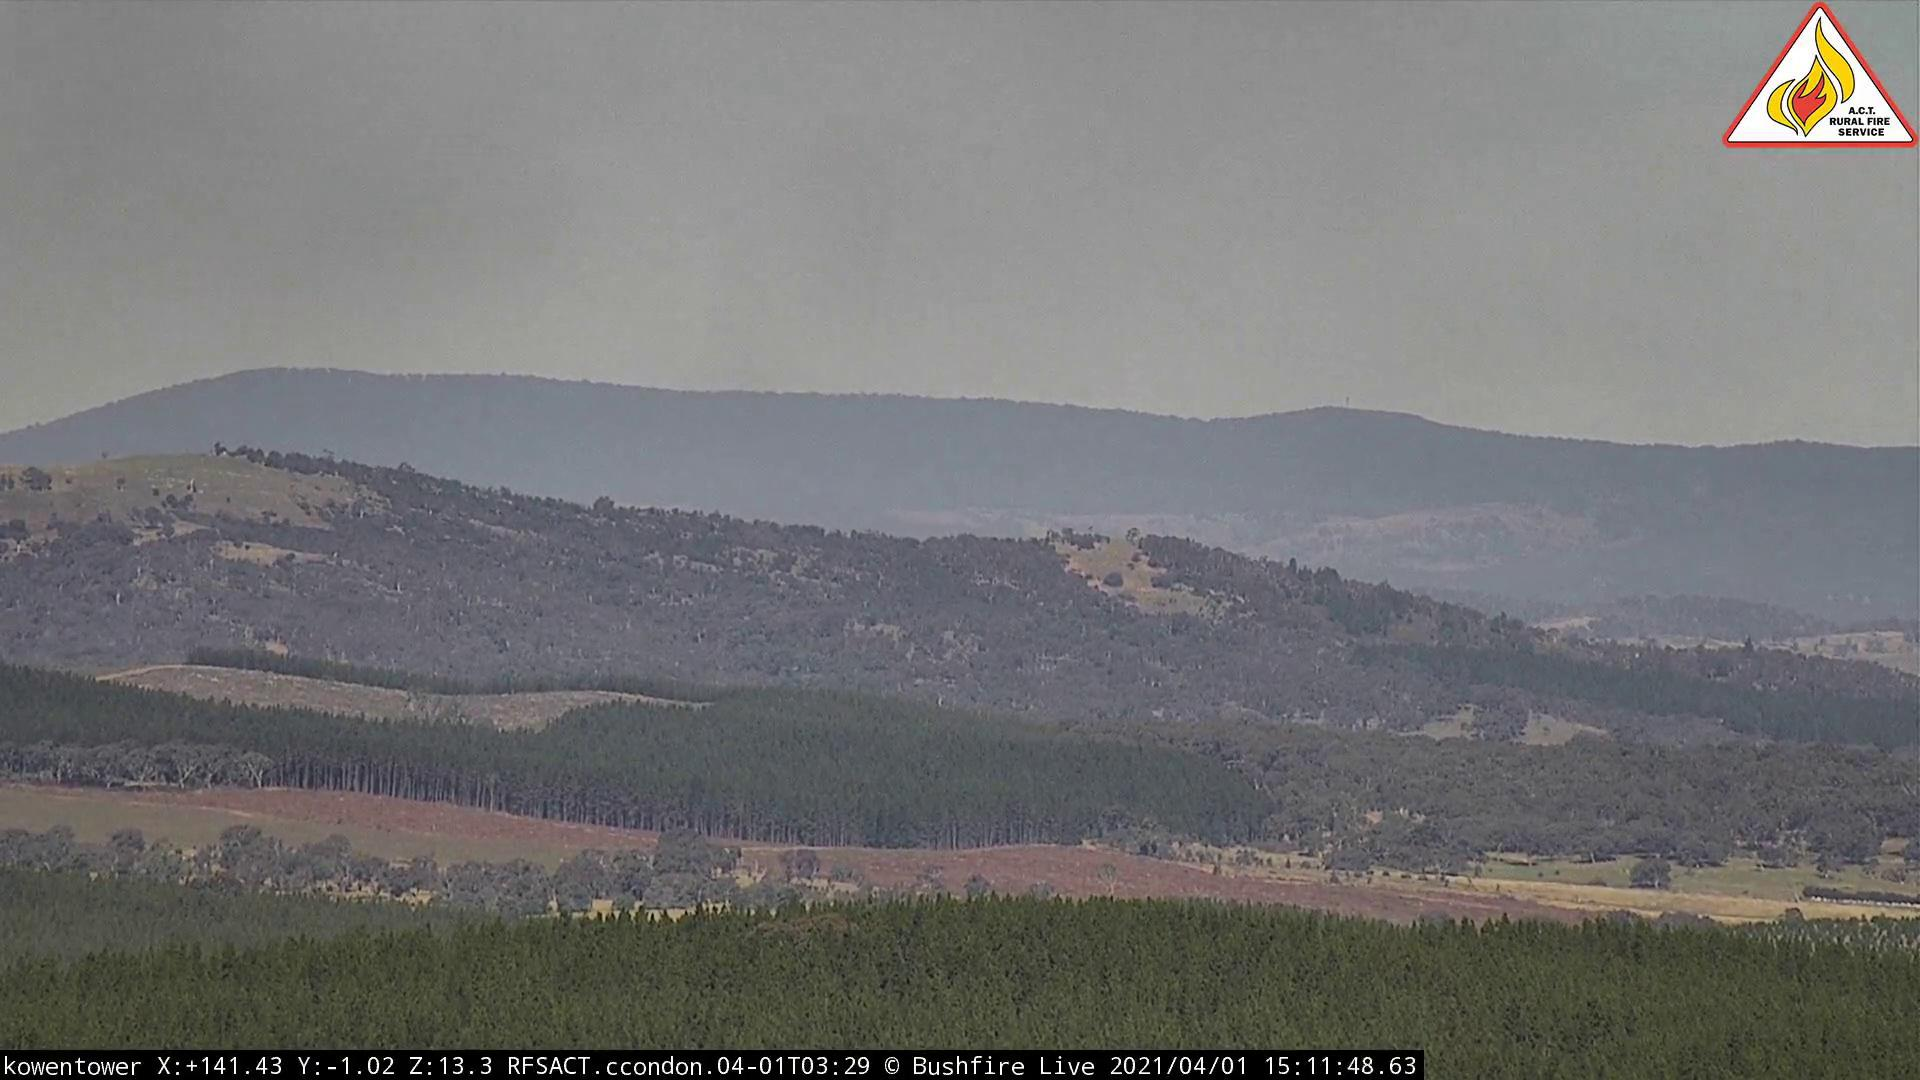Smoke: (3, 82, 953, 429)
